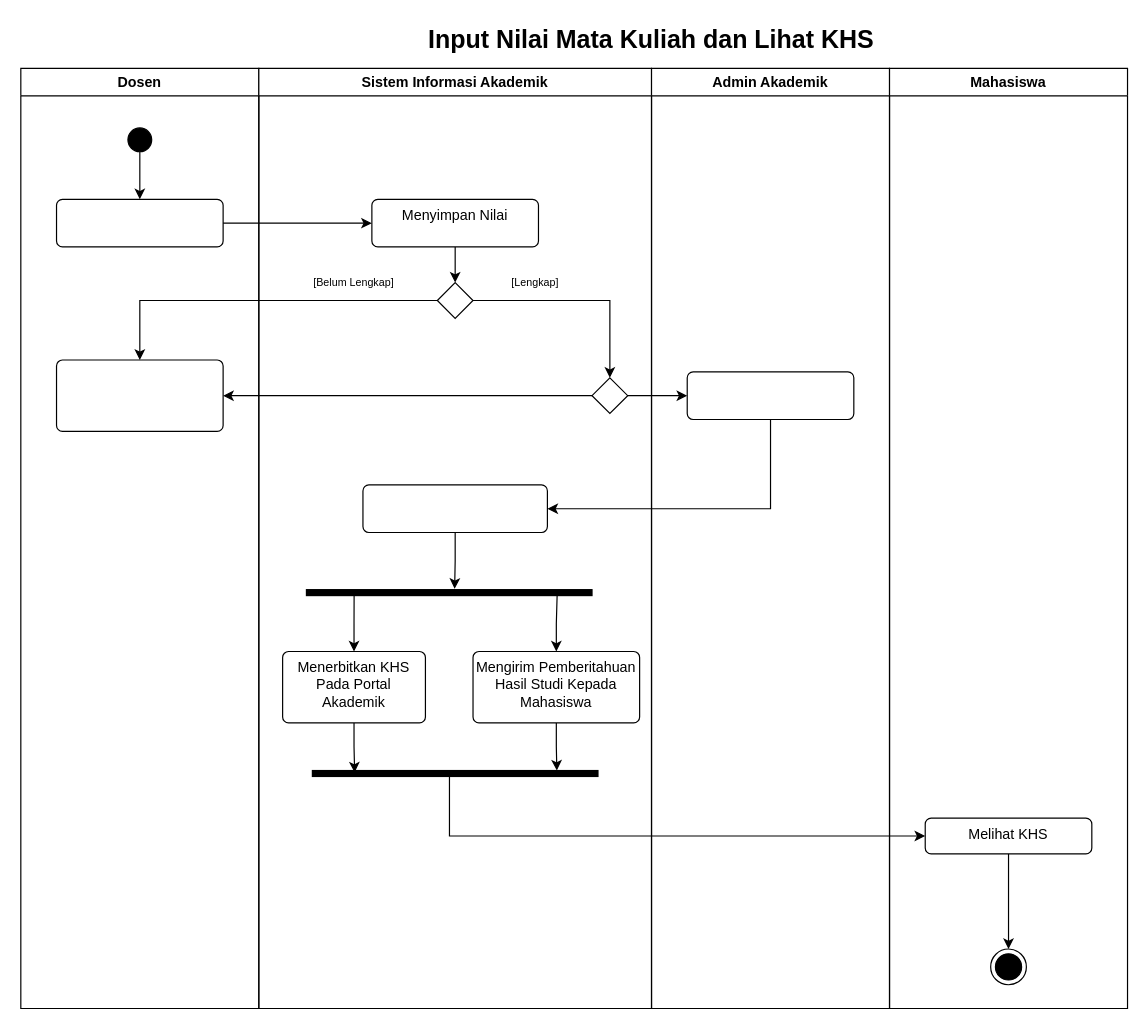
Some shapes in this 1148 by 1029 pixel diagram are drawn without their labels. The centre of each missing label's shape, as x and y in pixels:
"Melengkapi Nilai Mata Kuliah Yang Belum Lengkap" goes at pixel 139 395.
"Memasukkan Nilai Mata Kuliah" goes at pixel 139 222.
"Memeriksa dan Mengesahkan Nilai" goes at pixel 770 395.
"menyiapkan Publikasi Hasil Studi" goes at pixel 454 508.
